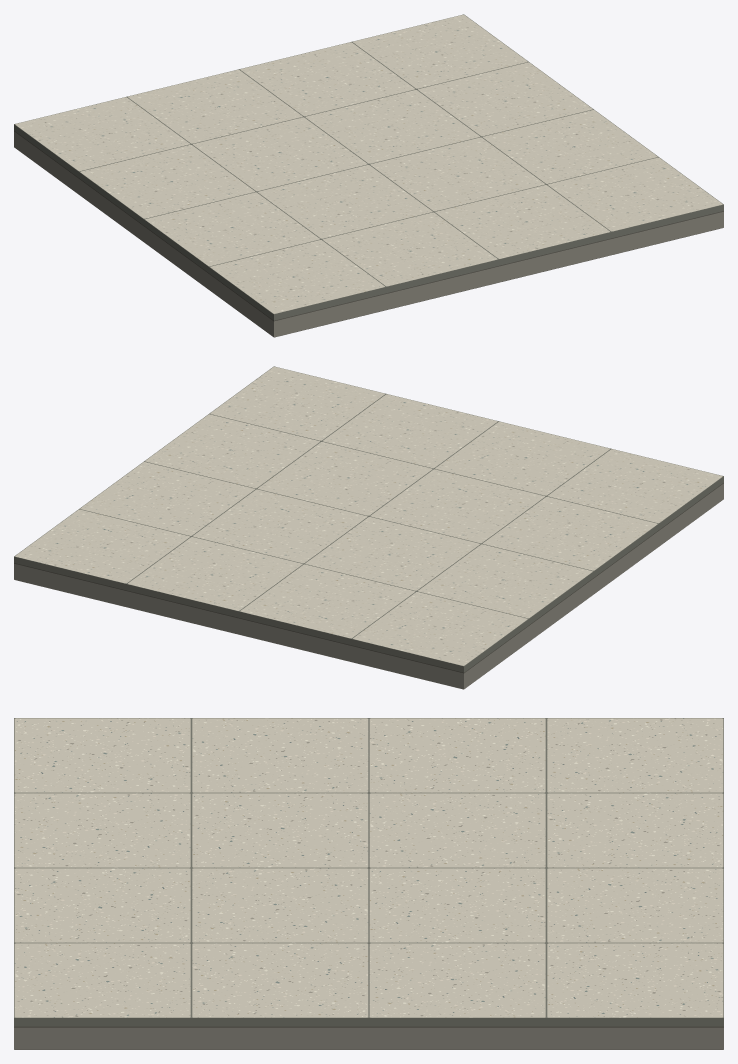
Rendered from mall-floor-module-2m.glb.
The picture shows the model from 3 angles, top to bottom: view 1: azimuth 30°, elevation 25°; view 2: azimuth 150°, elevation 25°; view 3: azimuth 270°, elevation 25°; orthographic projection. The views are drawn at different scales.
Parts seen in each view (by area): view 1: MODULE_StraightFloor_L0; view 2: MODULE_StraightFloor_L0; view 3: MODULE_StraightFloor_L0.
Boxes of the visible parts, box(x1,y1,x2,y2) form: MODULE_StraightFloor_L0: box(14, 14, 723, 337); MODULE_StraightFloor_L0: box(14, 366, 723, 689); MODULE_StraightFloor_L0: box(14, 718, 723, 1049).
Bounding box in the file's own units: 2 × 0.1 × 2.
Materials: 4 (1 with a texture image).
